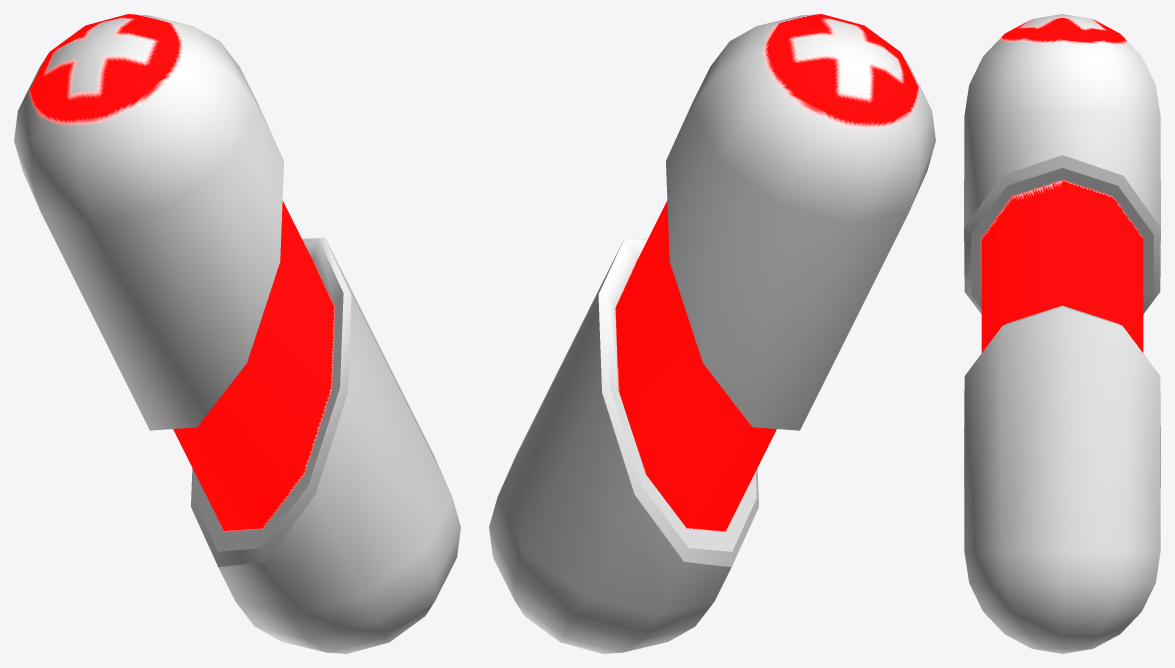
File: pill_red.glb
3 views of the same model, side by side, from view 1: azimuth 30°, elevation 25°; view 2: azimuth 150°, elevation 25°; view 3: azimuth 270°, elevation 25° (orthographic). The views are drawn at different scales.
Parts seen in each view (by area): view 1: Object047.001; view 2: Object047.001; view 3: Object047.001.
Part boxes in pixels (<box>): Object047.001: <box>14,14,460,653</box>; Object047.001: <box>489,14,935,653</box>; Object047.001: <box>964,14,1160,653</box>.
Bounding box in the file's own units: 0.3947 × 0.6073 × 0.2.
Materials: 1 (1 with a texture image).
